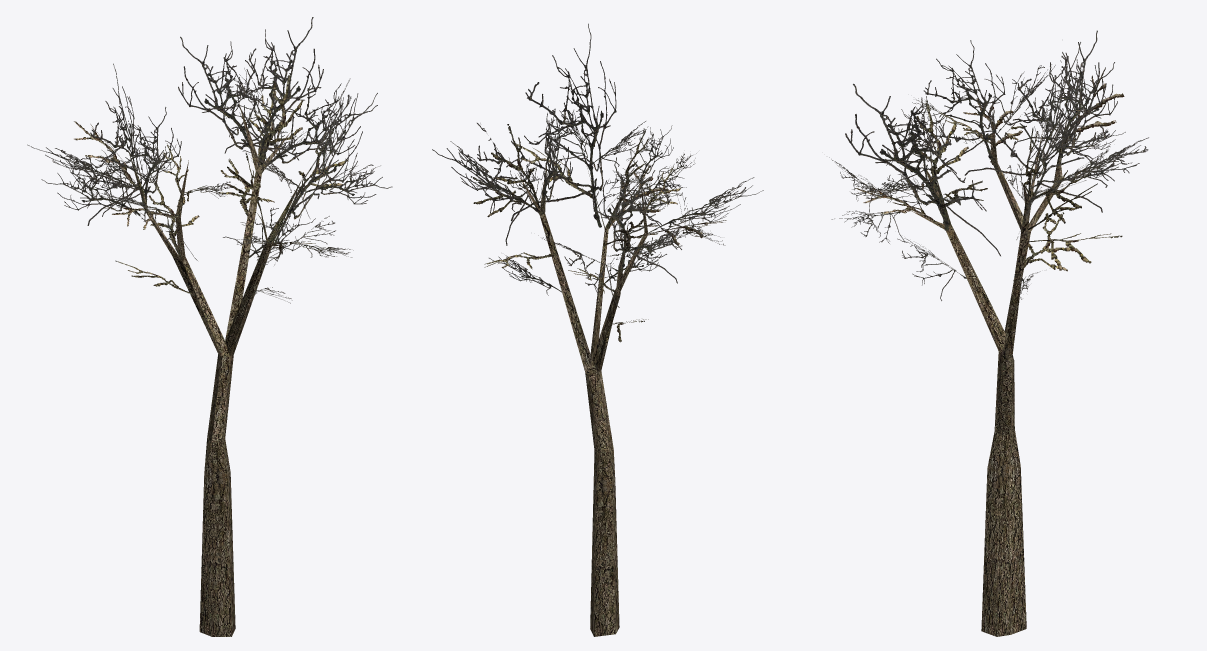
Rendered from snag-2.glb.
3 renders of one model, left to right at view 1: azimuth 30°, elevation 25°; view 2: azimuth 150°, elevation 25°; view 3: azimuth 270°, elevation 25°, orthographic. The views are drawn at different scales.
Visible parts, largest first — view 1: snag-2; view 2: snag-2; view 3: snag-2.
Part boxes in pixels (x1,y1,x2,y2): snag-2: [27, 17, 392, 636]; snag-2: [432, 23, 763, 636]; snag-2: [829, 30, 1148, 636].
Bounding box in the file's own units: 10.35 × 16.66 × 9.31.
Materials: 2 (2 with a texture image).
